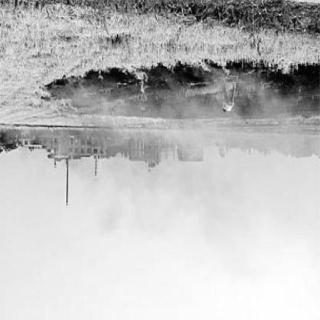Fire: (35, 87, 167, 121), (114, 59, 157, 95), (194, 57, 234, 81), (273, 57, 303, 81)
Smoke: (176, 113, 208, 156)
